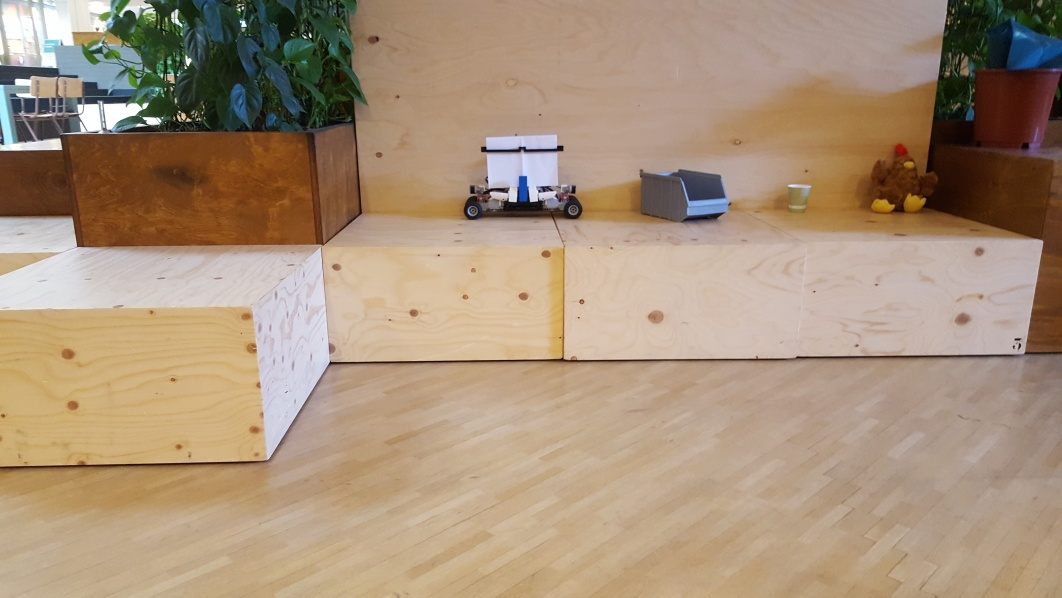beam: (518, 175, 531, 206)
chicken: (872, 143, 938, 215)
cup: (785, 182, 812, 214)
tray: (636, 168, 733, 225)
